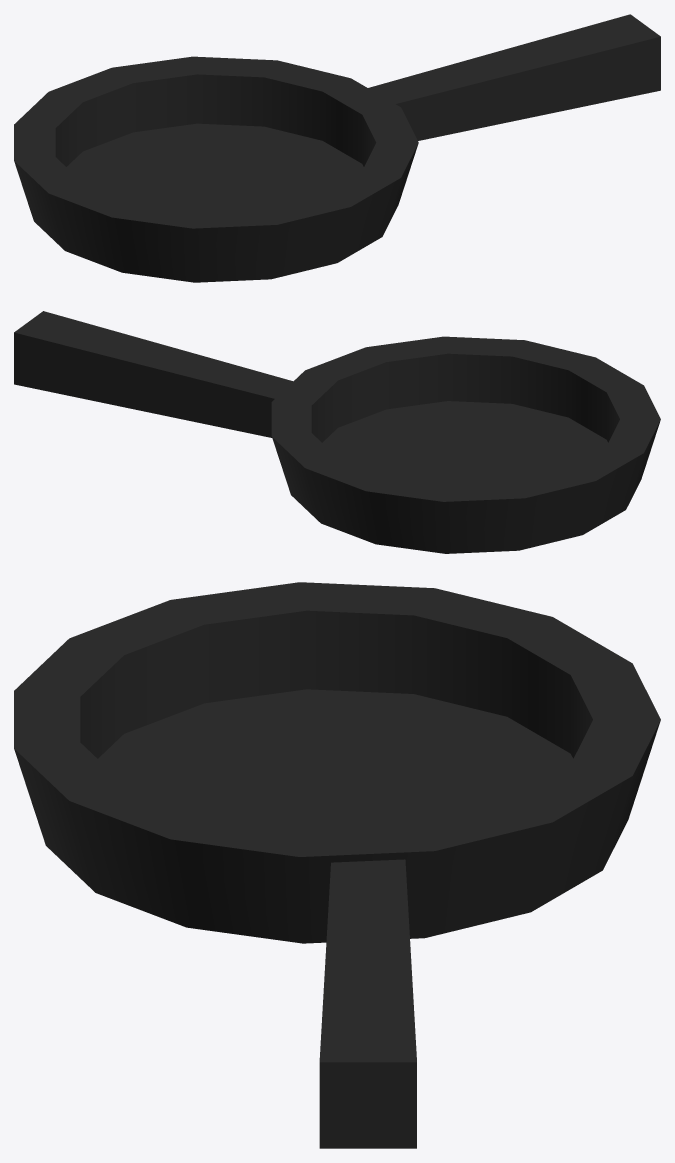
File: Pan.fbx
3 renders of one model, top to bottom at view 1: azimuth 30°, elevation 25°; view 2: azimuth 150°, elevation 25°; view 3: azimuth 270°, elevation 25°, orthographic. The views are drawn at different scales.
Visible parts, largest first — view 1: Pan; view 2: Pan; view 3: Pan.
Part boxes in pixels (left/top/right/bottom): Pan: left=14, top=14, right=660, bottom=282; Pan: left=14, top=311, right=660, bottom=553; Pan: left=14, top=582, right=660, bottom=1148.
Size of the model in its own units: 111 by 10.98 by 62.88.
